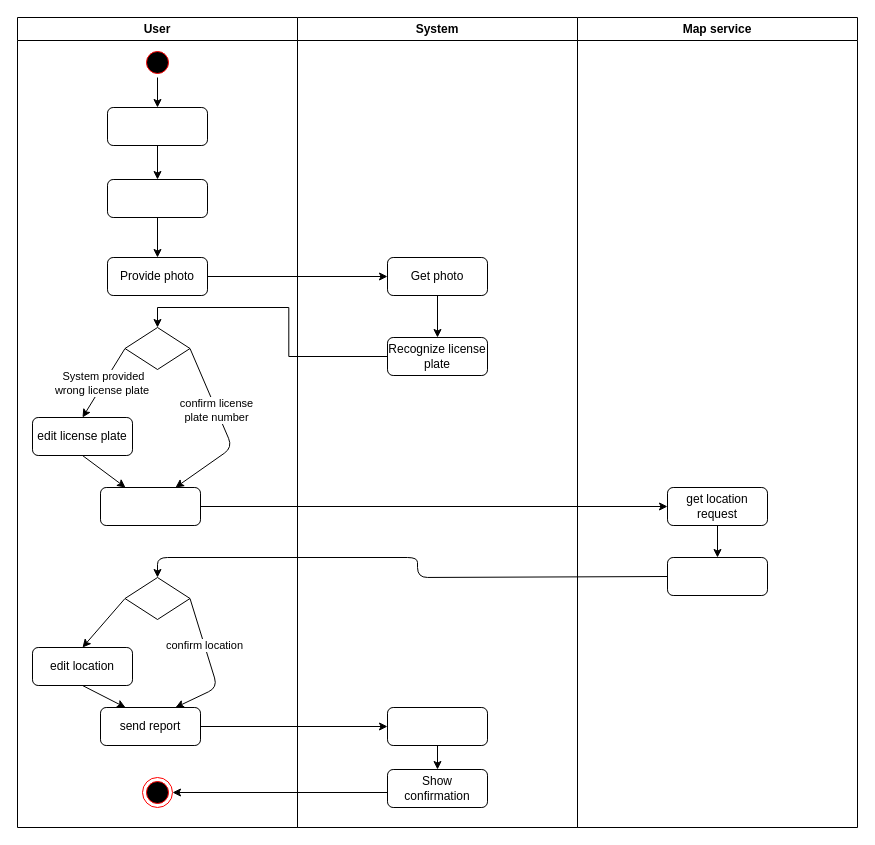
This 875x845 diagram has some shape labels left out. The box of each missing label's shape, as (x1, y1, x2, y2) in pixels:
Create report: (106, 106, 208, 146)
Process report: (386, 706, 488, 746)
provide location: (666, 556, 768, 596)
request location: (100, 486, 200, 526)
Select violation type: (106, 178, 208, 218)
